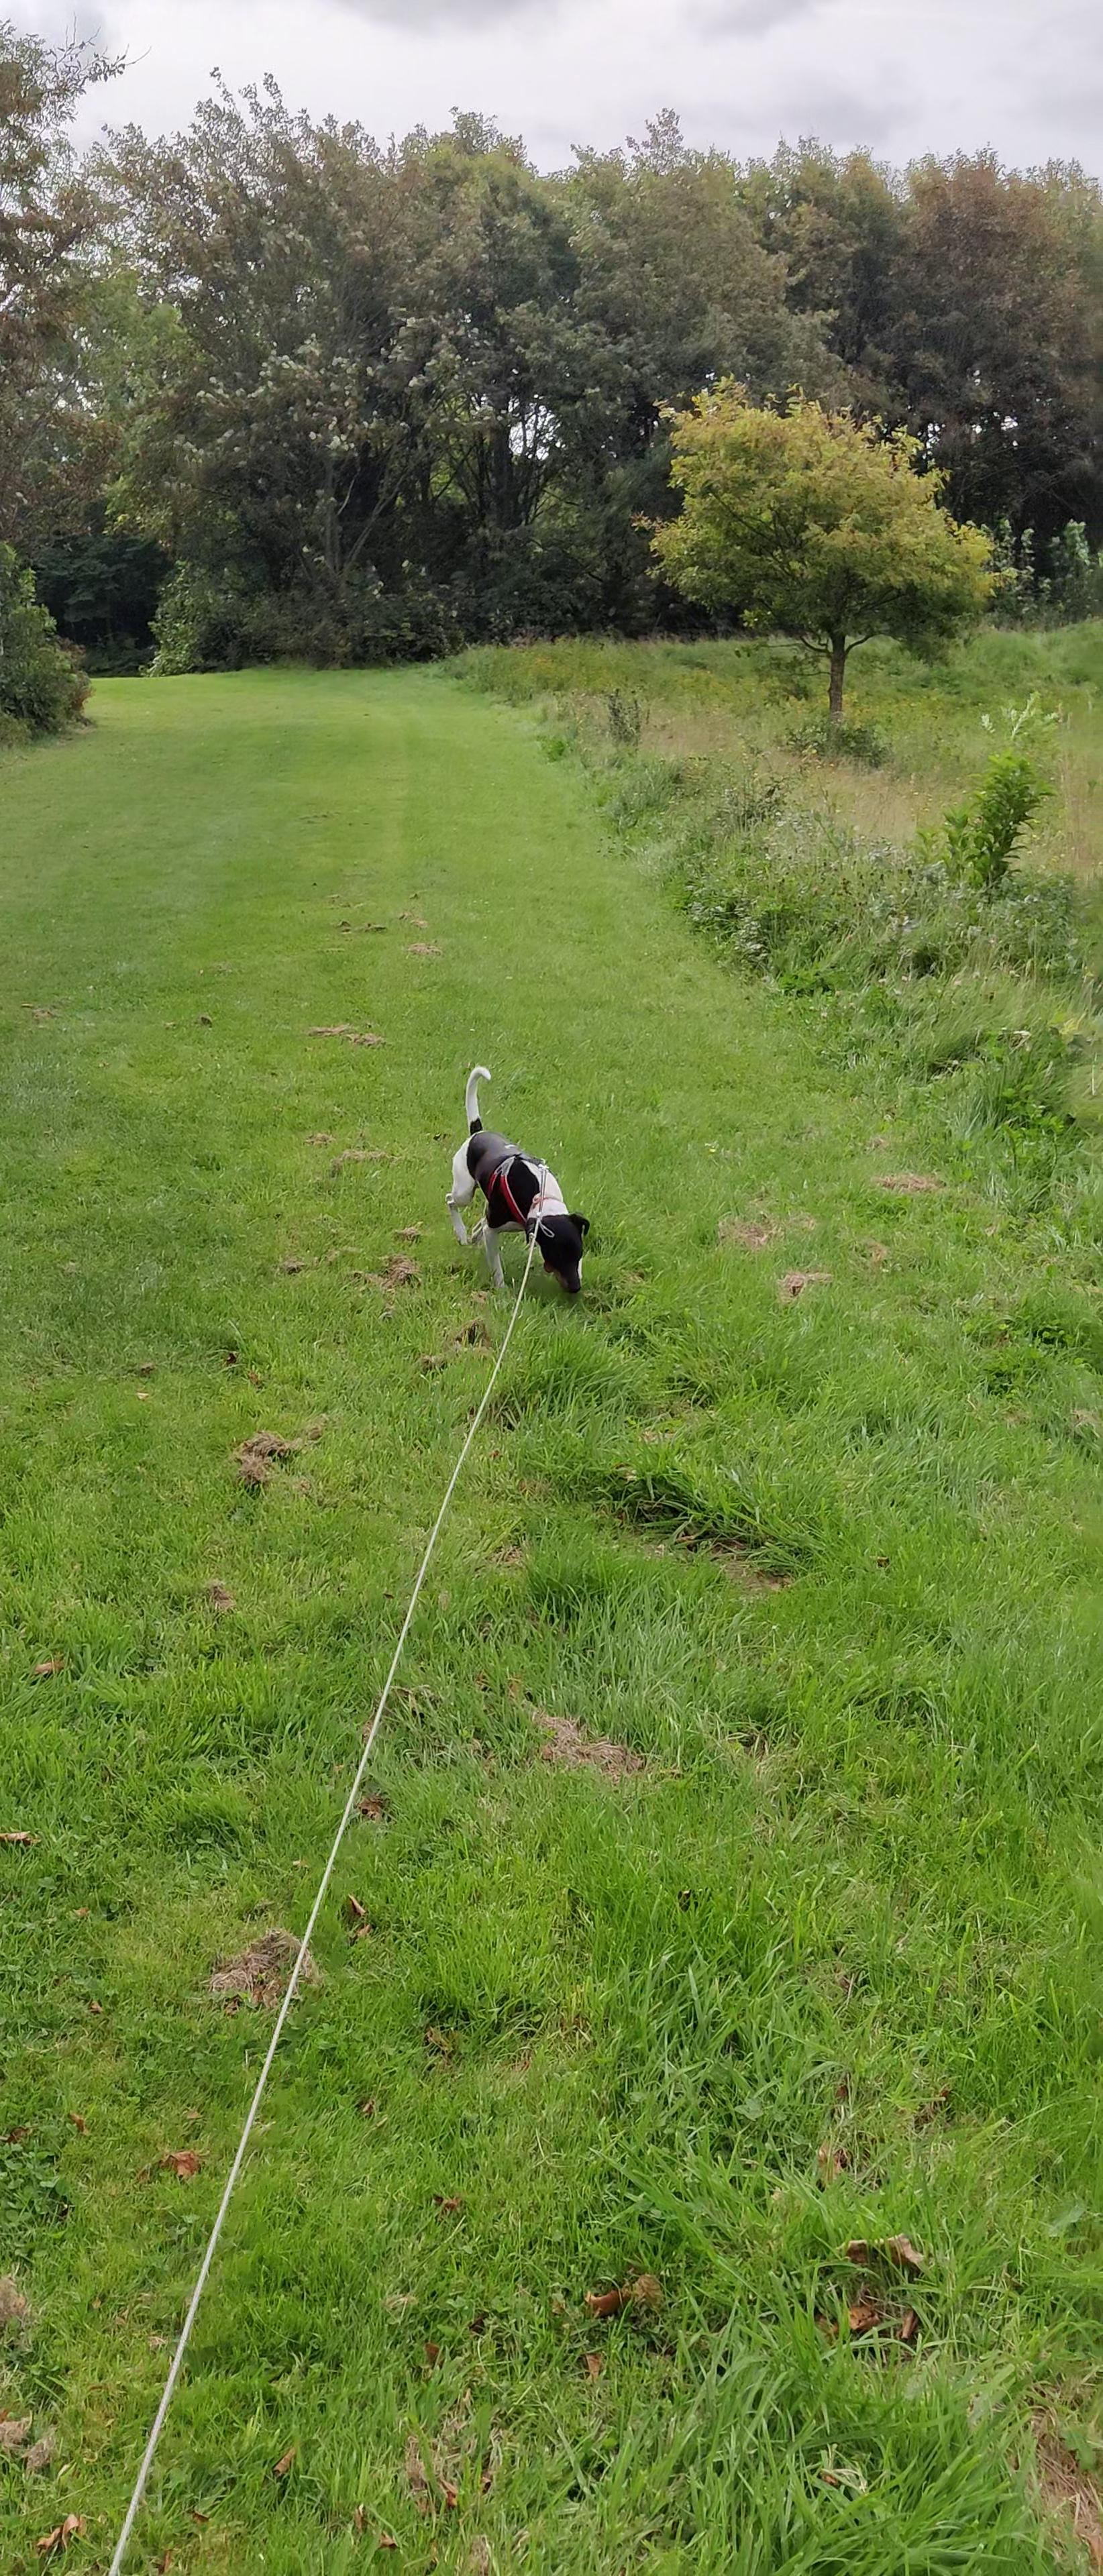Dog: (431, 1045, 598, 1306)
